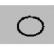no answer: (16, 12, 46, 38)
